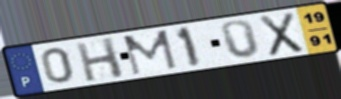0: (220, 19, 262, 61), (39, 46, 79, 86)
1: (173, 25, 204, 69)
H: (73, 36, 127, 83)
M: (121, 28, 180, 77)
X: (257, 10, 306, 58)
